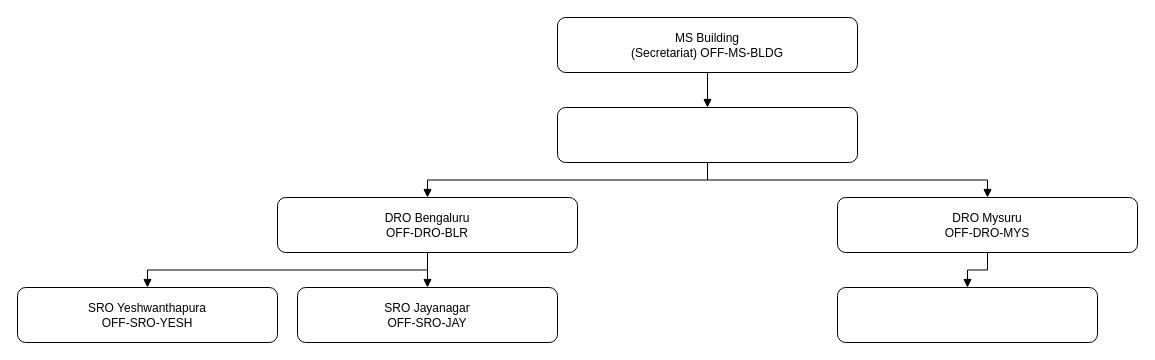
The diagram is 1155 pixels wide and 360 high, and some of its shapes have lost their labels. The shapes that lost their labels are listed below. From the top down, each one's centre as x and y in pixels, then its label:
point (707, 134): IGR Office (Head Office) OFF-IGR
point (967, 314): SRO Mysuru East OFF-SRO-MYS-E
